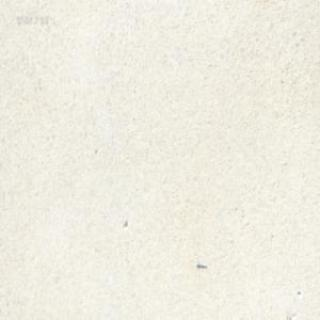Nailtrack_idkeyframe: (196, 261, 206, 268)
